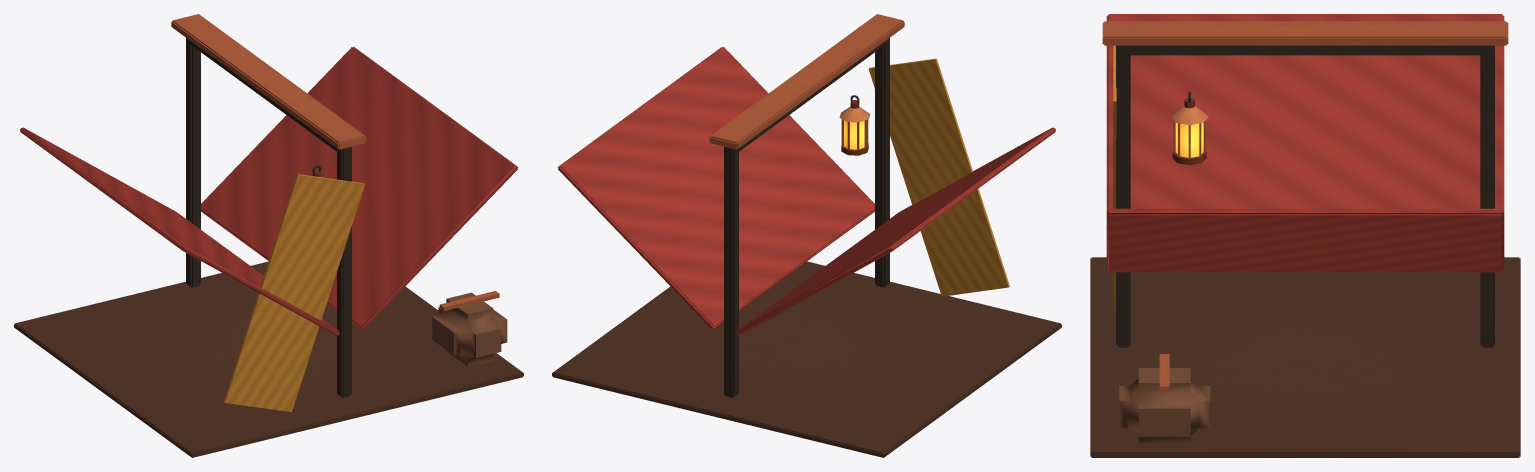
Rendered from tent_miner_outpost.glb.
3 renders of one model, left to right at view 1: azimuth 30°, elevation 25°; view 2: azimuth 150°, elevation 25°; view 3: azimuth 270°, elevation 25°, orthographic. The views are drawn at different scales.
Visible parts, largest first — view 1: tent_miner_outpost; view 2: tent_miner_outpost; view 3: tent_miner_outpost.
Boxes of the visible parts, bbox=[...] form: tent_miner_outpost: bbox=[14, 14, 523, 457]; tent_miner_outpost: bbox=[552, 14, 1061, 457]; tent_miner_outpost: bbox=[1090, 14, 1520, 457].
Size of the model in its own units: 2.85 by 2.21 by 2.6.
Materials: 1 (1 with a texture image).
